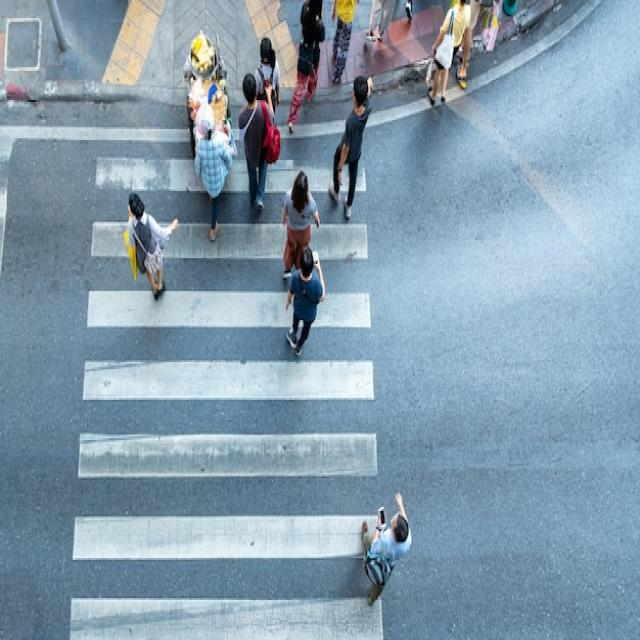Pedestrians: (349, 486, 420, 606), (121, 189, 179, 302), (277, 245, 326, 364), (237, 69, 278, 211), (192, 107, 233, 245), (334, 73, 371, 220), (424, 2, 472, 111), (278, 173, 327, 276), (287, 2, 325, 133), (330, 2, 363, 84), (366, 2, 401, 45), (256, 36, 281, 88)
